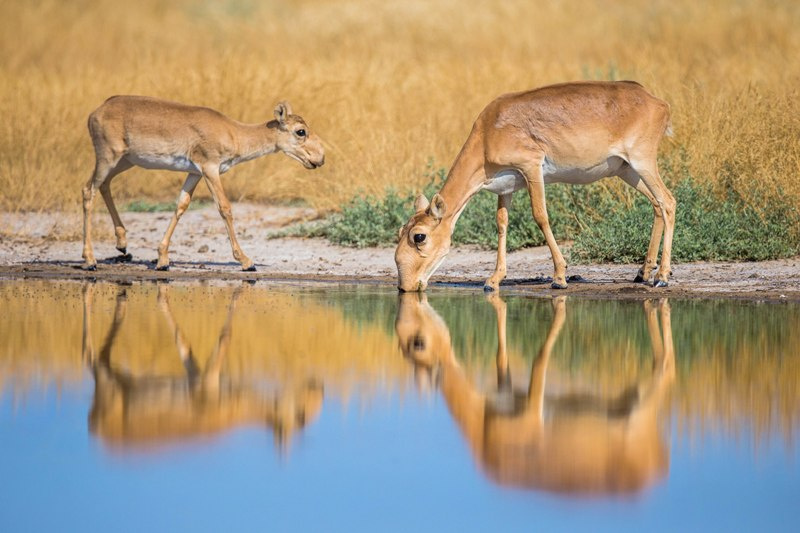saiga: (391, 75, 690, 294), (79, 79, 331, 278)
